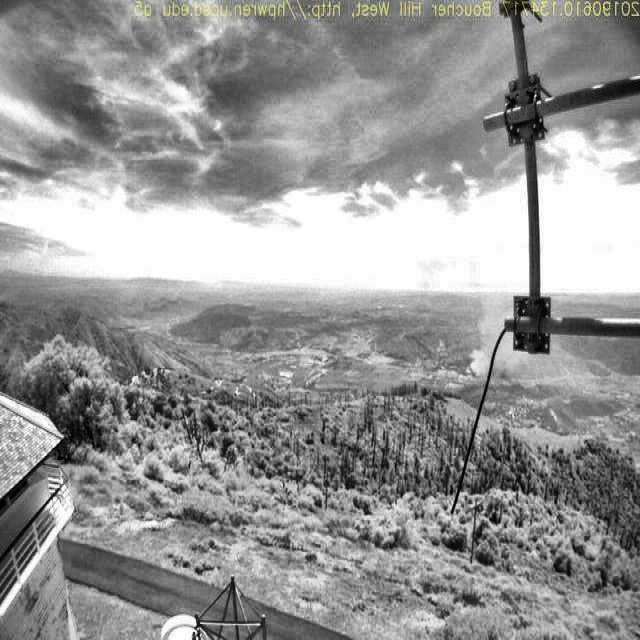smoke: (463, 274, 525, 378)
